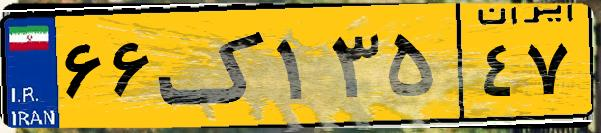1: (270, 28, 330, 110)
3: (330, 28, 385, 110)
4: (475, 38, 525, 113)
5: (385, 28, 445, 110)
6: (57, 26, 110, 100), (110, 28, 158, 98)
7: (525, 38, 570, 115)
ک: (158, 12, 270, 120)
